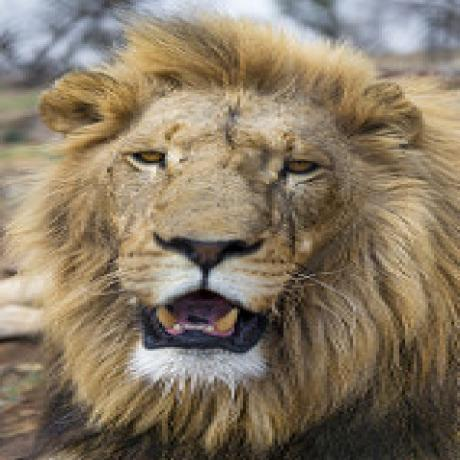Lion: (0, 8, 460, 460)
